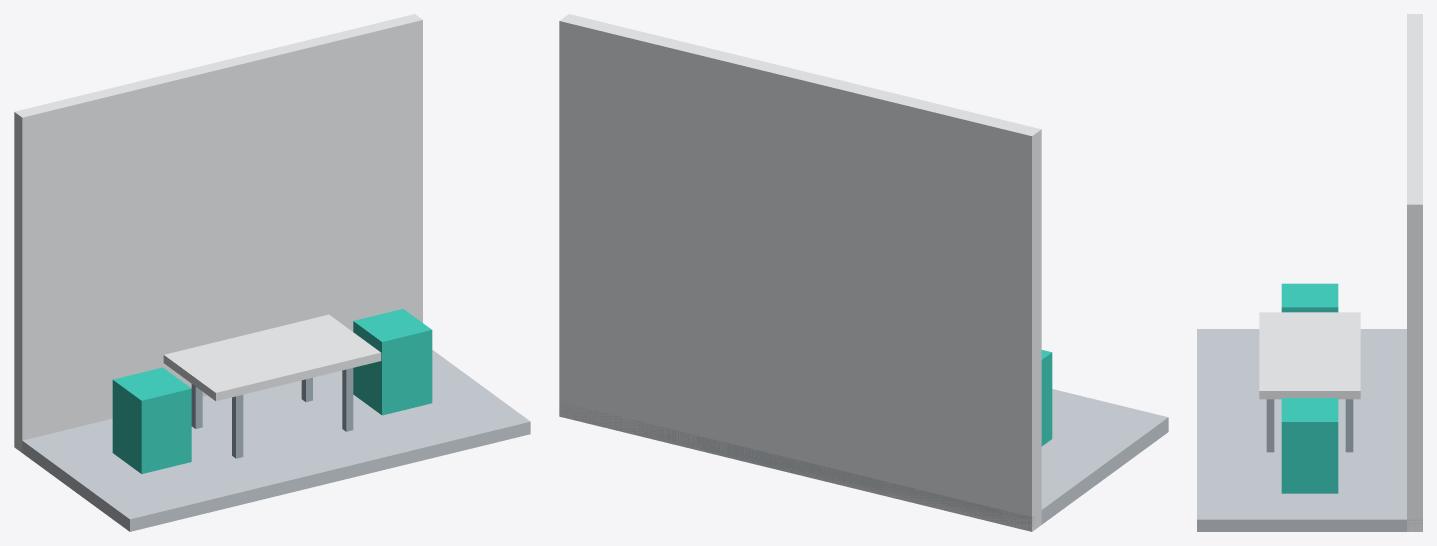
3 views of the same model, side by side, from view 1: azimuth 30°, elevation 25°; view 2: azimuth 150°, elevation 25°; view 3: azimuth 270°, elevation 25° (orthographic). The views are drawn at different scales.
Parts seen in each view (by area): view 1: Exhibition Booth Concept; view 2: Exhibition Booth Concept; view 3: Exhibition Booth Concept.
Boxes of the visible parts, x1,y1,x2,y2 form: Exhibition Booth Concept: (14, 14, 530, 531); Exhibition Booth Concept: (559, 14, 1168, 531); Exhibition Booth Concept: (1197, 14, 1422, 531).
Size of the model in its own units: 4 by 3.2 by 2.
